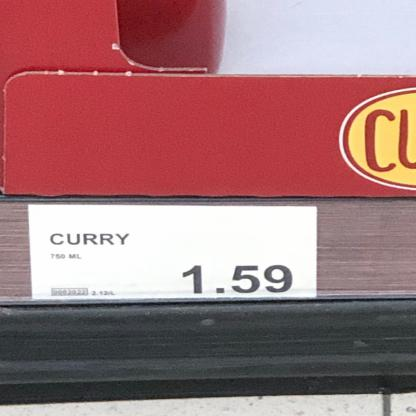prtg: (30, 206, 319, 301)
